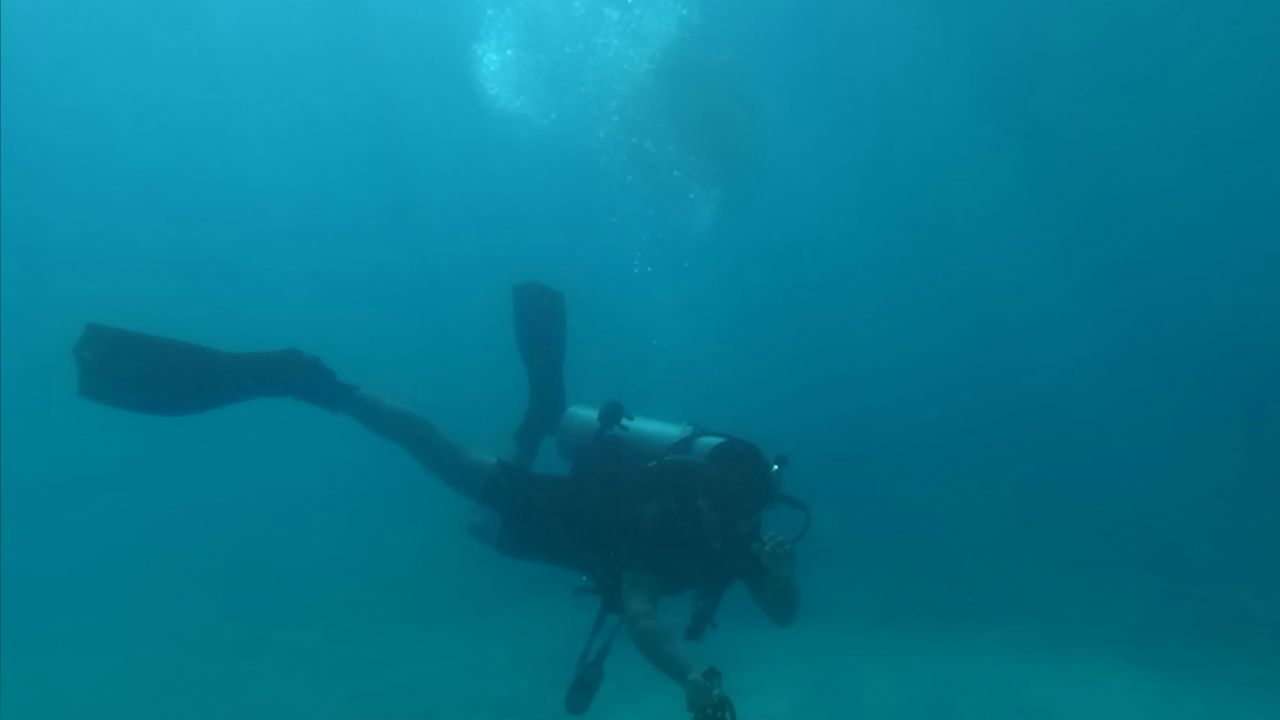Diver: (60, 270, 814, 714)
Hand: (668, 668, 740, 714)
